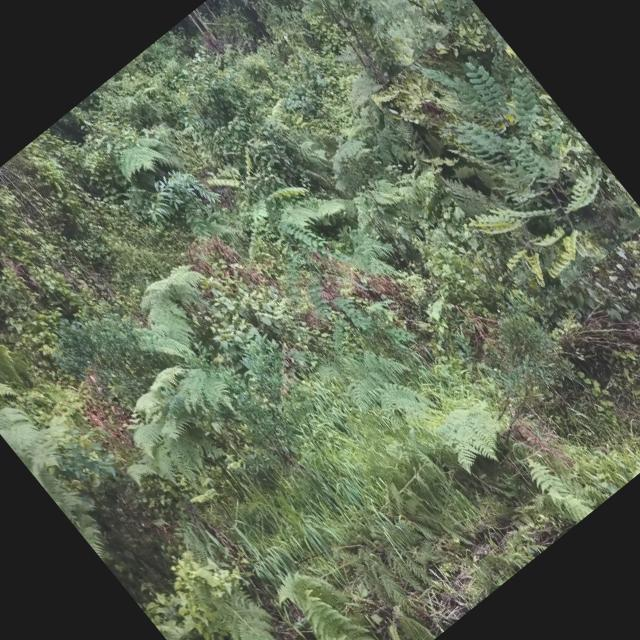Mysore-Thorn-Weed: (370, 12, 640, 308), (190, 130, 400, 363)
